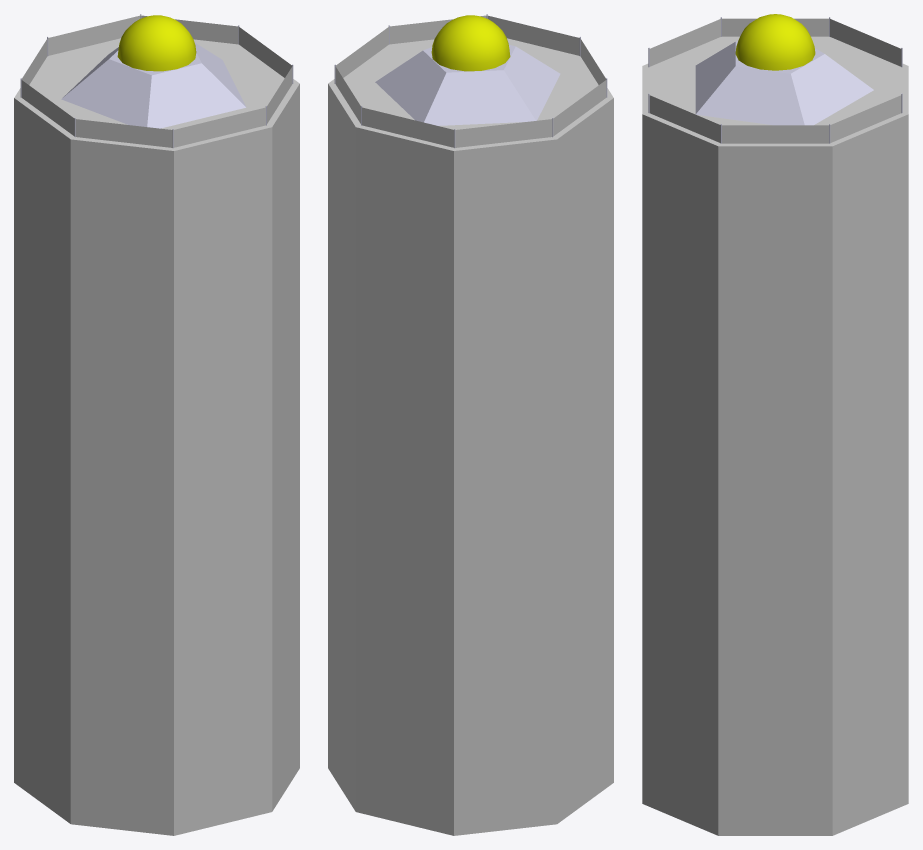
The model's file is bubble_lod3.dae.
3 renders of one model, left to right at view 1: azimuth 30°, elevation 25°; view 2: azimuth 150°, elevation 25°; view 3: azimuth 270°, elevation 25°, orthographic.
Parts seen in each view (by area): view 1: bld_base2_002; view 2: bld_base2_002; view 3: bld_base2_002.
Boxes of the visible parts, x1,y1,x2,y2 form: bld_base2_002: [14, 14, 299, 835]; bld_base2_002: [328, 14, 613, 835]; bld_base2_002: [642, 14, 908, 835].
Size of the model in its own units: 20 by 20 by 63.14.
